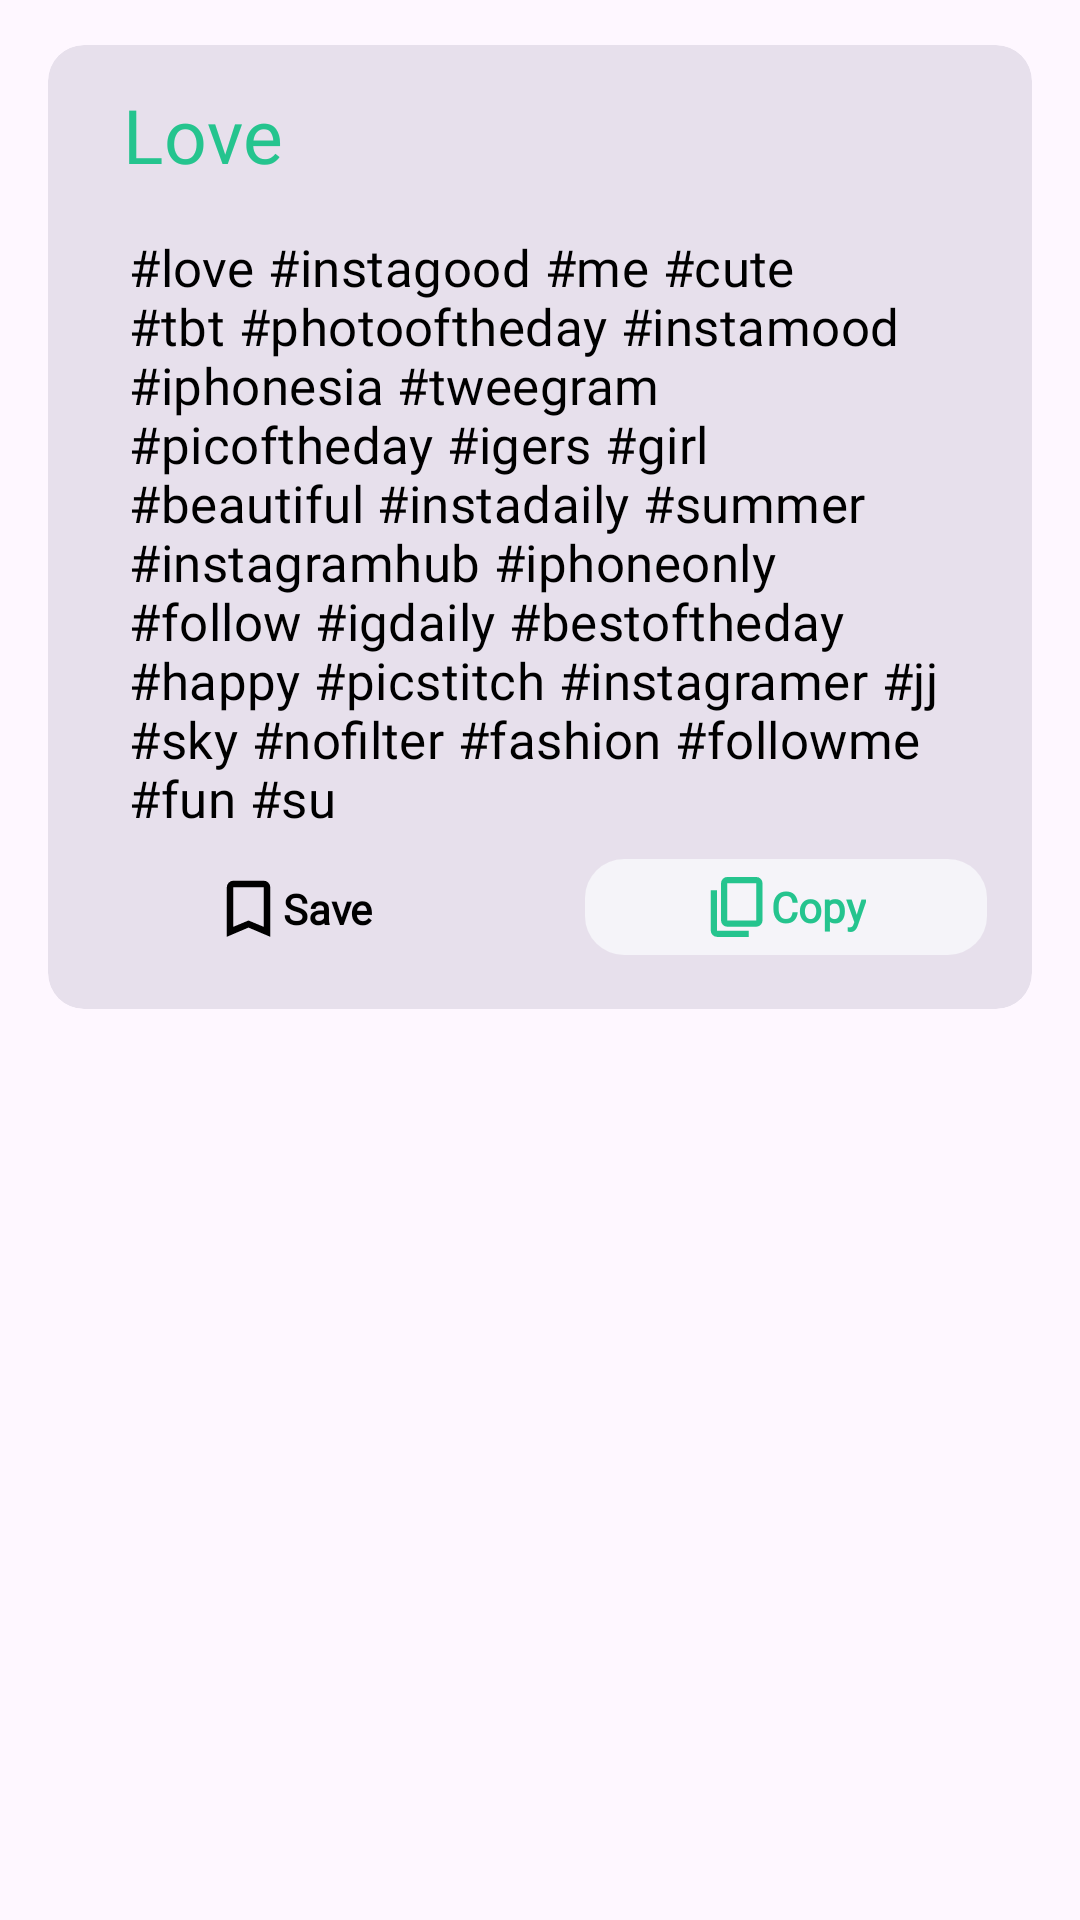

Icon bounding boxes for this 1080 × 1920 phone screenshot, format {"left": x1, "top": y1, "right": x2, "bottom": y2}:
bookmark: {"left": 226, "top": 880, "right": 271, "bottom": 937}
